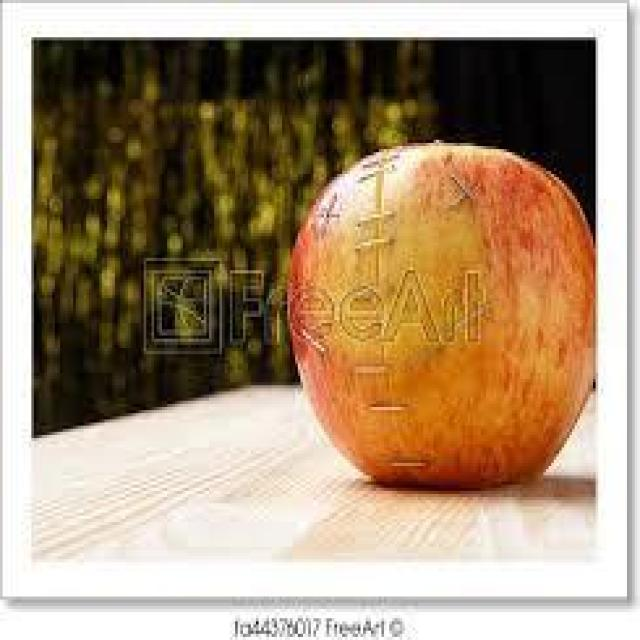maca: (284, 136, 596, 488)
